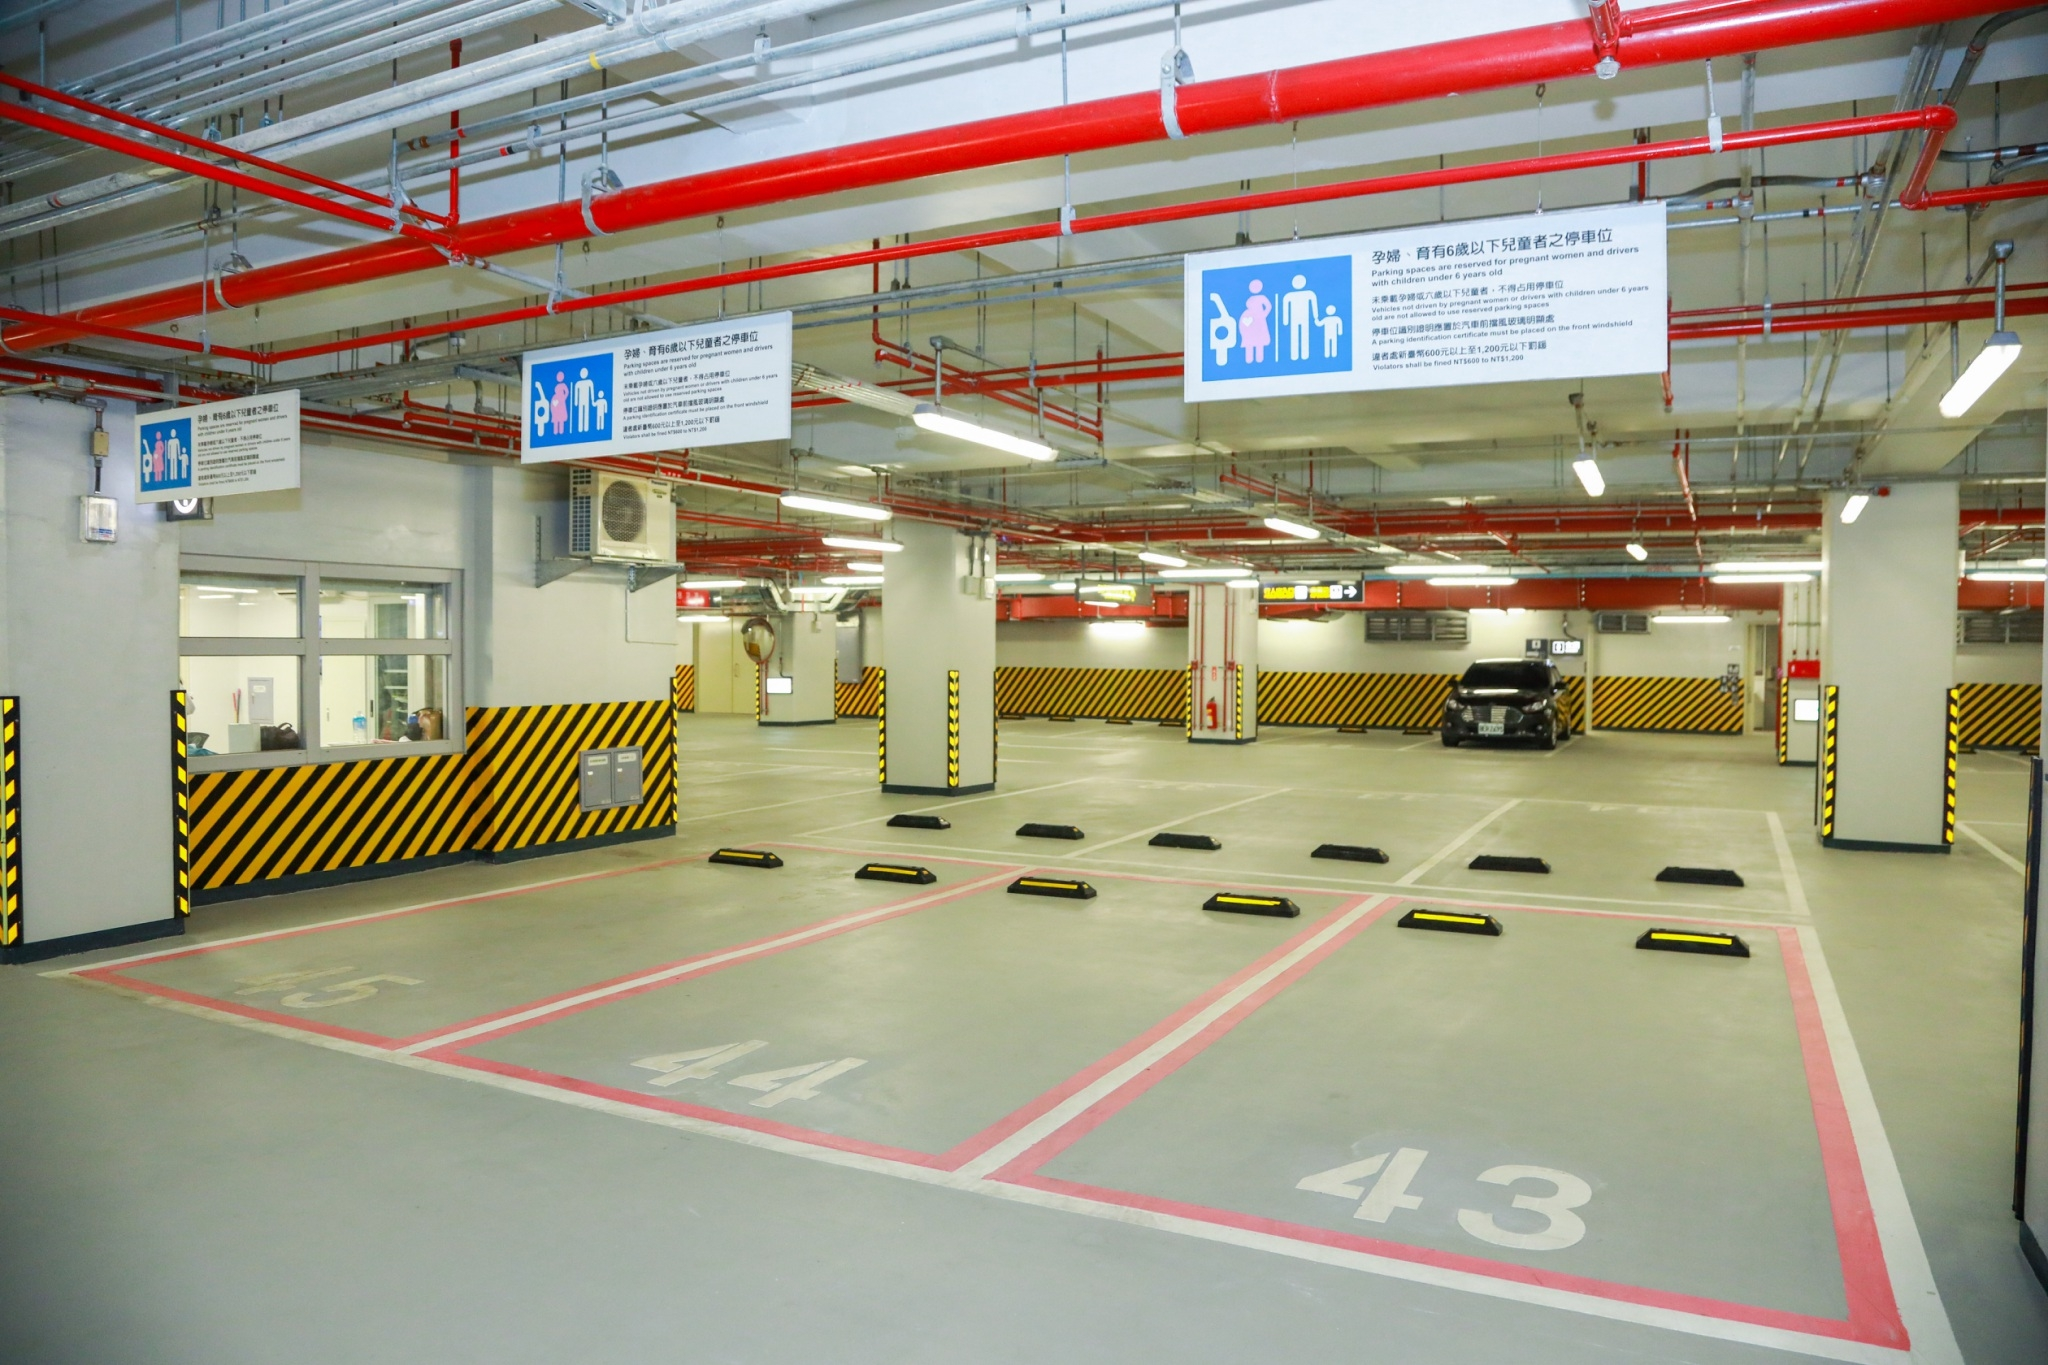car: (1436, 655, 1574, 754)
